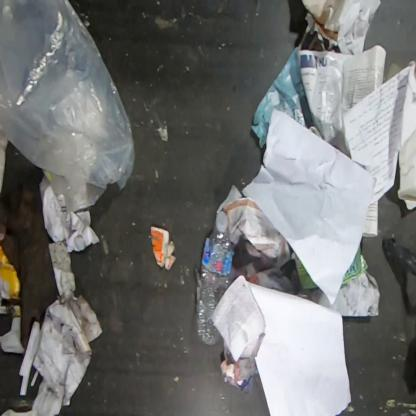rigid_plastic: (195, 210, 236, 347)
soft_plastic: (0, 0, 136, 213), (381, 237, 415, 318)
